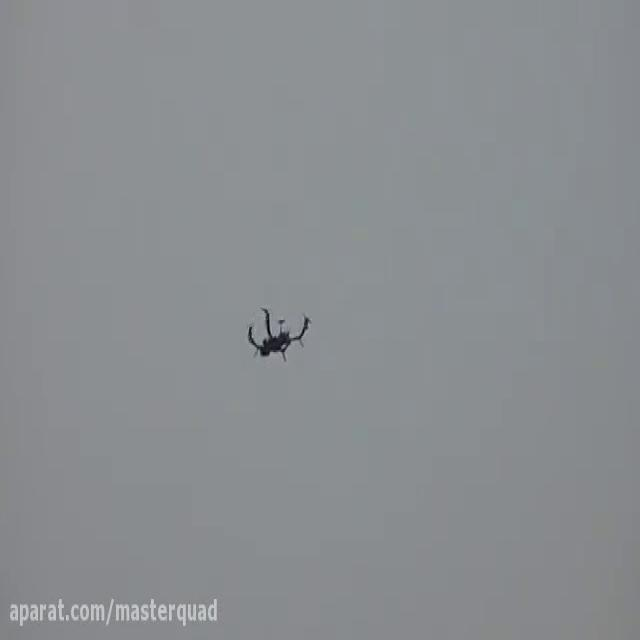drone: (242, 297, 317, 364)
